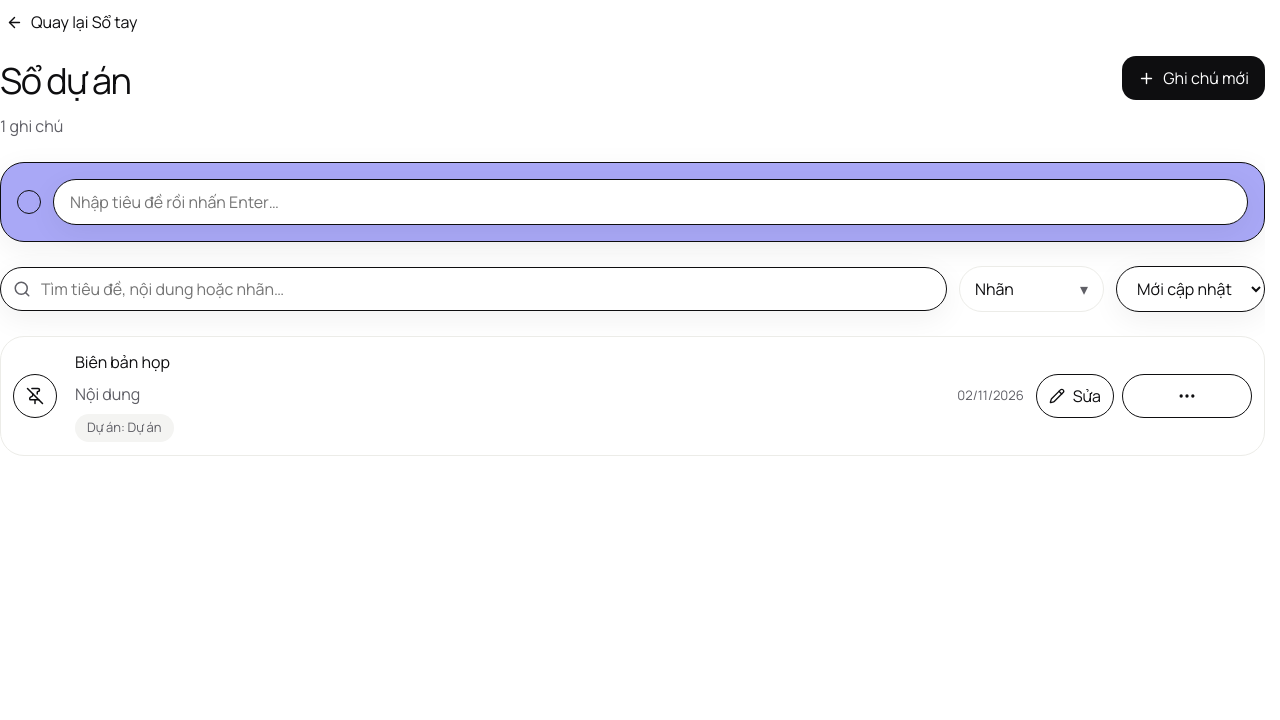
trang sổ tay và cài đặt › thêm nhanh và mở ghi chú trong chi tiết sổ
expect the heading "Sổ dự án" is shown: met, box [0,56,130,106]
expect the button with aria-label "Sửa: Biên bản họp" reads "Sửa": met, box [1036,374,1114,418]
Step 1. Type "Việc mới" into the field named "Thêm nhanh ghi chú" → (650, 202), box [53,179,1248,225]
Then press Enter
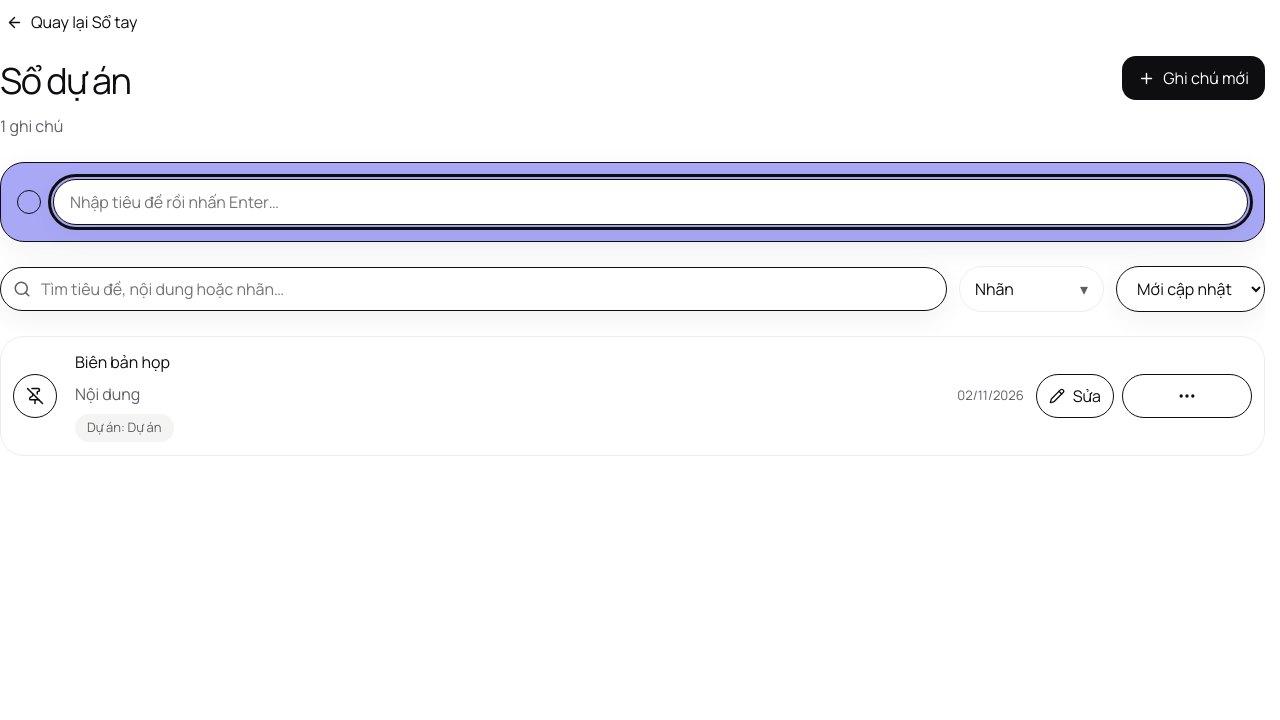
Step 2. Click the button "Biên bản họp Nội dung Dự án: Dự án" → (122, 362), box [69,349,945,443]
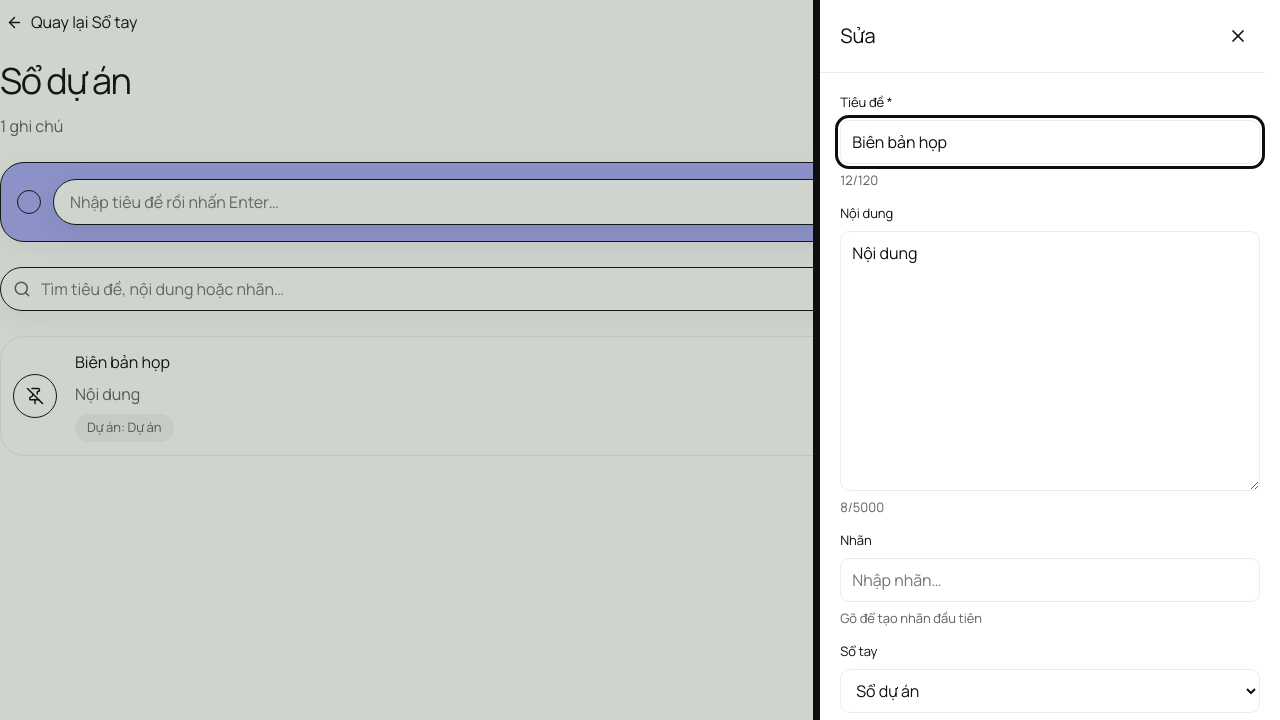
expect the dialog "Sửa" is shown: met, box [819,0,1279,719]
